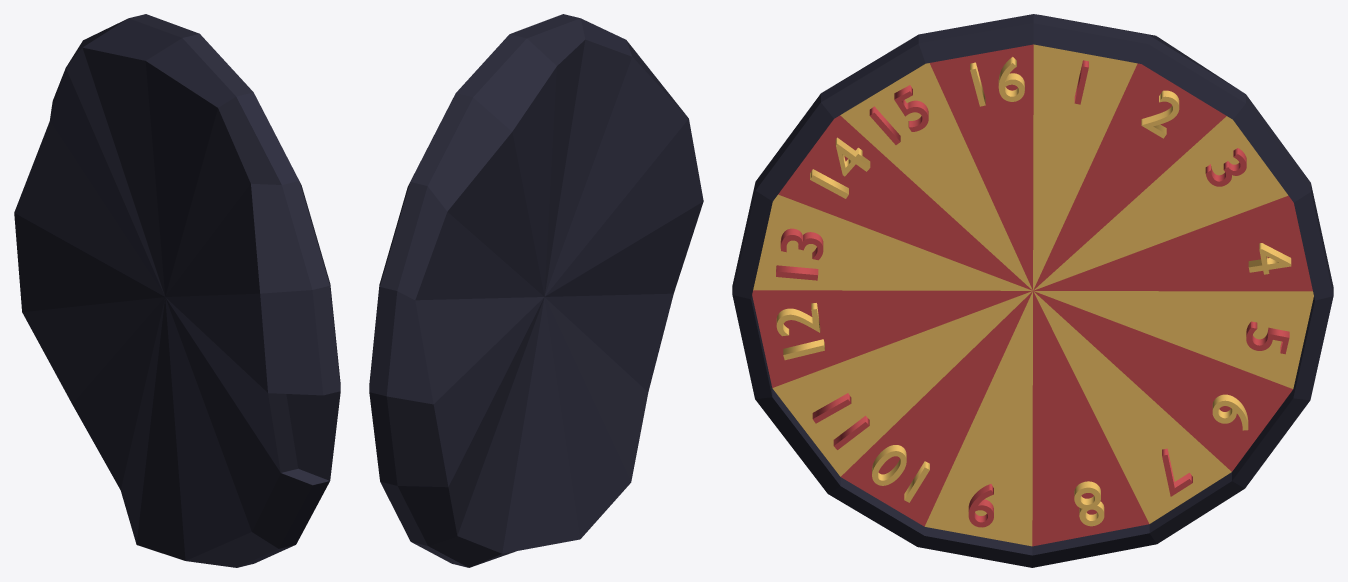
The model's file is Spinner.fbx.
3 views of the same model, side by side, from view 1: azimuth 30°, elevation 25°; view 2: azimuth 150°, elevation 25°; view 3: azimuth 270°, elevation 25° (orthographic). The views are drawn at different scales.
Parts seen in each view (by area): view 1: Spinny; view 2: Spinny; view 3: Spinny.
Part boxes in pixels (x1,y1,x2,y2): Spinny: (14,14,340,567); Spinny: (369,14,703,567); Spinny: (732,14,1333,567).
Bounding box in the file's own units: 35.96 × 229 × 229.
